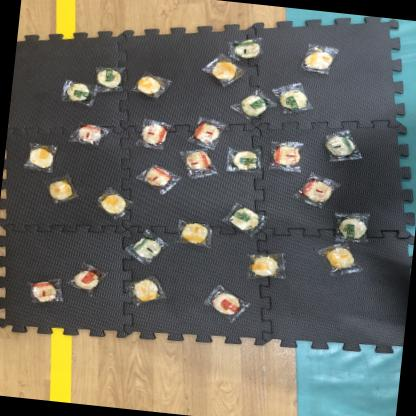green_setoshio: (122, 226, 171, 265), (222, 200, 269, 236), (322, 127, 362, 164), (329, 209, 371, 244), (230, 90, 274, 120), (222, 145, 262, 176), (274, 82, 310, 115), (58, 78, 100, 106), (94, 64, 127, 93), (228, 36, 264, 62)
red_setoshio: (200, 282, 250, 324), (292, 170, 338, 211), (176, 146, 219, 182), (263, 137, 303, 174), (186, 114, 227, 150), (68, 262, 108, 298), (134, 162, 176, 196), (132, 116, 172, 151), (67, 120, 111, 150), (26, 277, 64, 307)
yellow_setoshio: (314, 240, 363, 276), (202, 53, 246, 87), (298, 42, 340, 76), (242, 247, 287, 278), (125, 274, 167, 307), (42, 172, 82, 206), (92, 186, 131, 220), (22, 141, 60, 173), (176, 218, 216, 248), (133, 72, 170, 100)
